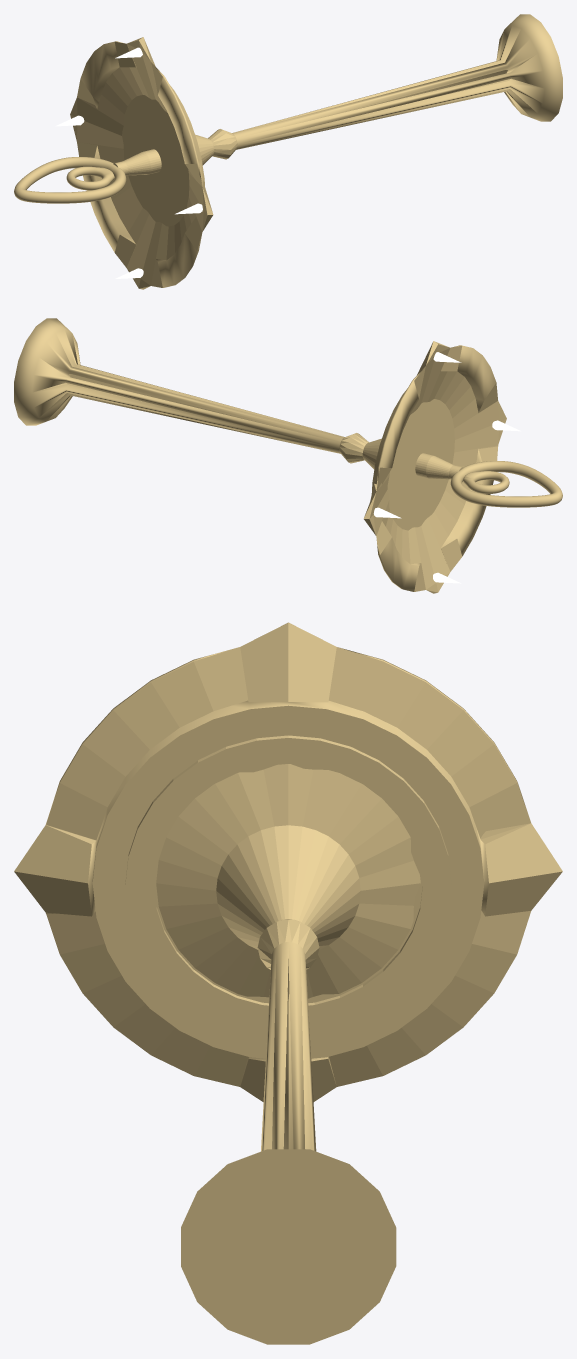
File: hindu_god_lamp.glb
3 renders of one model, top to bottom at view 1: azimuth 30°, elevation 25°; view 2: azimuth 150°, elevation 25°; view 3: azimuth 270°, elevation 25°, orthographic. The views are drawn at different scales.
Parts seen in each view (by area): view 1: Cylinder.004_0, NurbsCircle.001_7, Torus_1; view 2: Cylinder.004_0, NurbsCircle.001_7, Torus_1; view 3: Cylinder.004_0.
Boxes of the visible parts, bbox=[...] form: Cylinder.004_0: bbox=[70, 14, 562, 289]; NurbsCircle.001_7: bbox=[14, 157, 126, 203]; Torus_1: bbox=[66, 166, 114, 190]; Cylinder.004_0: bbox=[14, 318, 506, 593]; NurbsCircle.001_7: bbox=[450, 461, 562, 507]; Torus_1: bbox=[463, 471, 509, 493]; Cylinder.004_0: bbox=[14, 622, 562, 1344].
Size of the model in its own units: 3.65 by 1.7 by 1.7.
